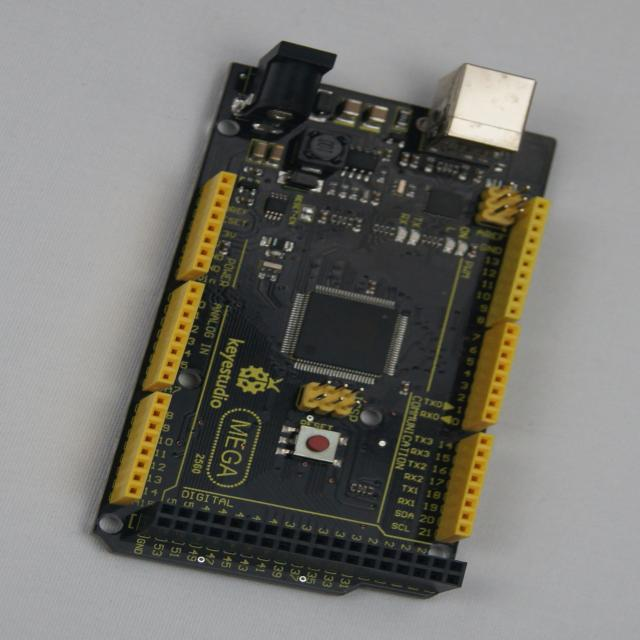Arduino Mega 2560 -Yellow-: (94, 43, 556, 598)
